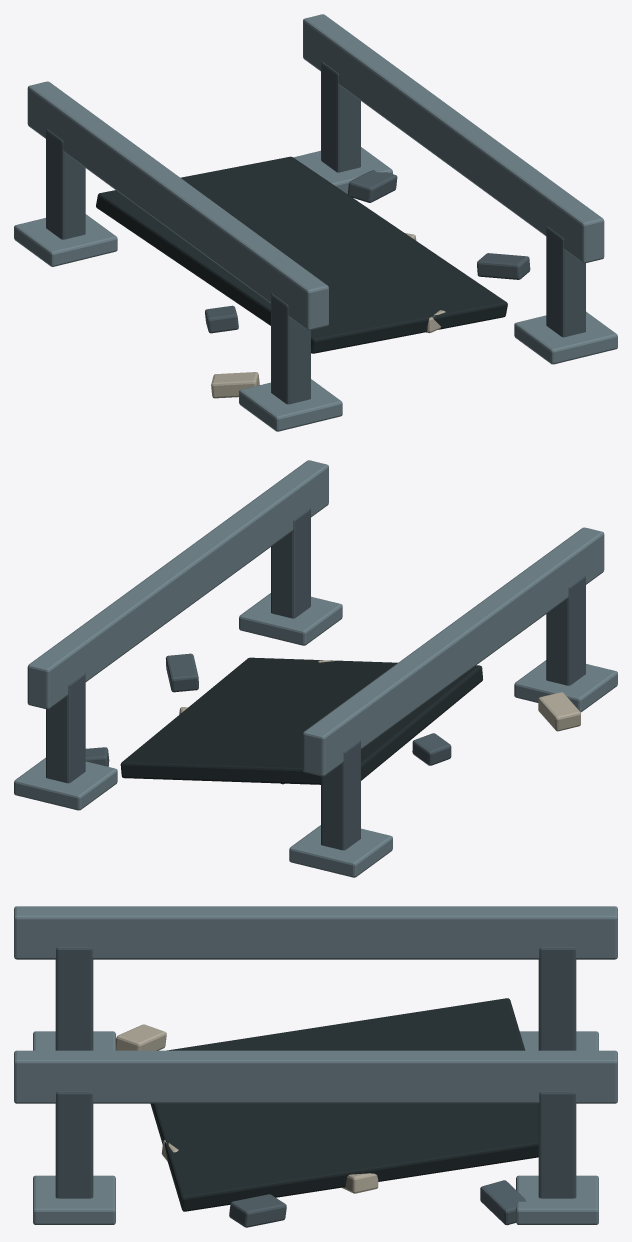
File: conveyor_module_d3.glb
3 views of the same model, one above another, from view 1: azimuth 30°, elevation 25°; view 2: azimuth 150°, elevation 25°; view 3: azimuth 270°, elevation 25° (orthographic). The views are drawn at different scales.
Parts seen in each view (by area): view 1: Collapsed belt panel.006, Conveyor side rail.055, Conveyor side rail.054, Conveyor trestle.110, Conveyor trestle.108, Conveyor trestle.111, Conveyor trestle.109, Trestle foot.109, Trestle foot.110, Trestle foot.108, Trestle foot.111, Debris fragment.056 (+3 smaller); view 2: Collapsed belt panel.006, Conveyor side rail.055, Conveyor side rail.054, Conveyor trestle.111, Conveyor trestle.109, Conveyor trestle.110, Conveyor trestle.108, Trestle foot.111, Trestle foot.109, Trestle foot.110, Trestle foot.108, Debris fragment.053 (+2 smaller); view 3: Collapsed belt panel.006, Conveyor side rail.055, Conveyor side rail.054, Conveyor trestle.110, Conveyor trestle.111, Conveyor trestle.108, Conveyor trestle.109, Trestle foot.110, Trestle foot.111, Debris fragment.056, Debris fragment.050, Debris fragment.053 (+3 smaller).
Boxes of the visible parts, x1,y1,x2,y2 form: Collapsed belt panel.006: [96, 156, 507, 353]; Conveyor side rail.055: [303, 14, 604, 263]; Conveyor side rail.054: [27, 81, 328, 330]; Conveyor trestle.110: [546, 226, 585, 337]; Conveyor trestle.108: [271, 293, 310, 404]; Conveyor trestle.111: [321, 61, 360, 172]; Conveyor trestle.109: [46, 129, 85, 239]; Trestle foot.109: [14, 214, 117, 266]; Trestle foot.110: [514, 311, 617, 364]; Trestle foot.108: [239, 379, 342, 431]; Trestle foot.111: [293, 147, 392, 193]; Debris fragment.056: [477, 253, 530, 279]; Collapsed belt panel.006: [120, 657, 482, 784]; Conveyor side rail.055: [27, 460, 328, 709]; Conveyor side rail.054: [303, 527, 604, 776]; Conveyor trestle.111: [46, 672, 85, 783]; Conveyor trestle.109: [321, 739, 360, 850]; Conveyor trestle.110: [271, 507, 310, 618]; Conveyor trestle.108: [546, 575, 585, 685]; Trestle foot.111: [14, 757, 117, 810]; Trestle foot.109: [289, 825, 392, 877]; Trestle foot.110: [239, 593, 342, 645]; Trestle foot.108: [514, 660, 617, 712]; Debris fragment.053: [538, 692, 580, 731]; Collapsed belt panel.006: [150, 998, 538, 1211]; Conveyor side rail.055: [14, 1050, 617, 1103]; Conveyor side rail.054: [14, 906, 617, 959]; Conveyor trestle.110: [55, 1091, 93, 1198]; Conveyor trestle.111: [538, 1091, 576, 1198]; Conveyor trestle.108: [55, 947, 93, 1050]; Conveyor trestle.109: [538, 947, 576, 1050]; Trestle foot.110: [33, 1175, 115, 1224]; Trestle foot.111: [516, 1175, 598, 1224]; Debris fragment.056: [229, 1194, 286, 1227]; Debris fragment.050: [480, 1180, 526, 1225]; Debris fragment.053: [115, 1024, 166, 1050].
Bounding box in the file's own units: 3.01 × 1.19 × 4.
